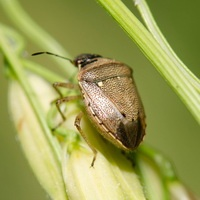insect: (32, 52, 145, 150)
